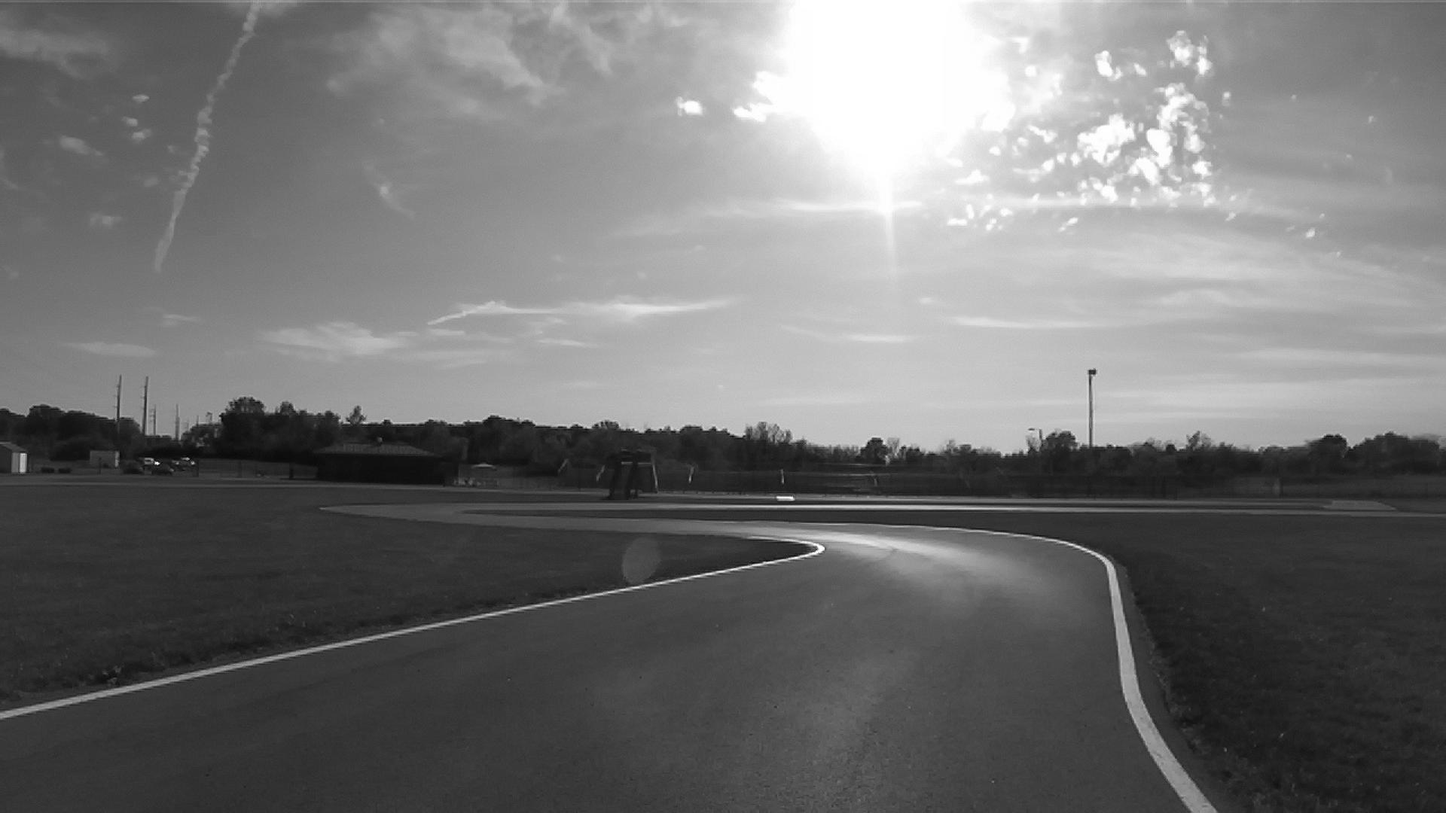white-line: (0, 536, 824, 720), (883, 524, 1217, 812)
